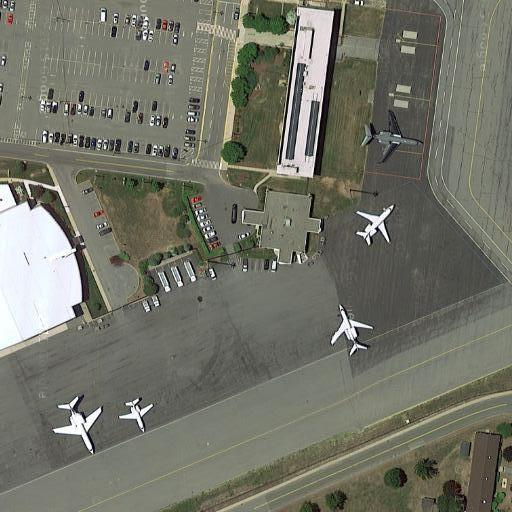B-1B: (360, 108, 430, 168)
plane: (51, 394, 106, 455), (325, 301, 378, 362), (351, 197, 398, 251), (116, 392, 158, 438)
